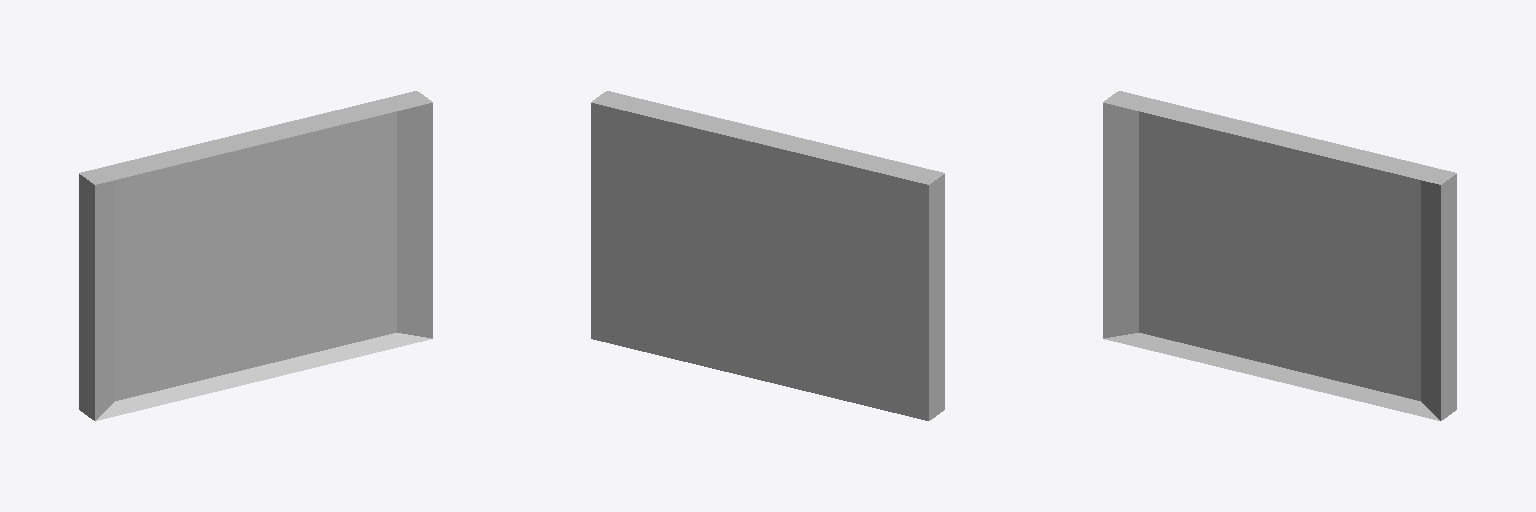
Rendered from oldpainting3.obj.
3 renders of one model, left to right at view 1: azimuth 30°, elevation 25°; view 2: azimuth 150°, elevation 25°; view 3: azimuth 330°, elevation 25°, orthographic.
Parts seen in each view (by area): view 1: paintings; view 2: paintings; view 3: paintings.
Boxes of the visible parts, <box> form: paintings: <box>79,91,432,420</box>; paintings: <box>591,91,944,420</box>; paintings: <box>1103,91,1456,420</box>.
Size of the model in its own units: 23.98 by 16 by 2.